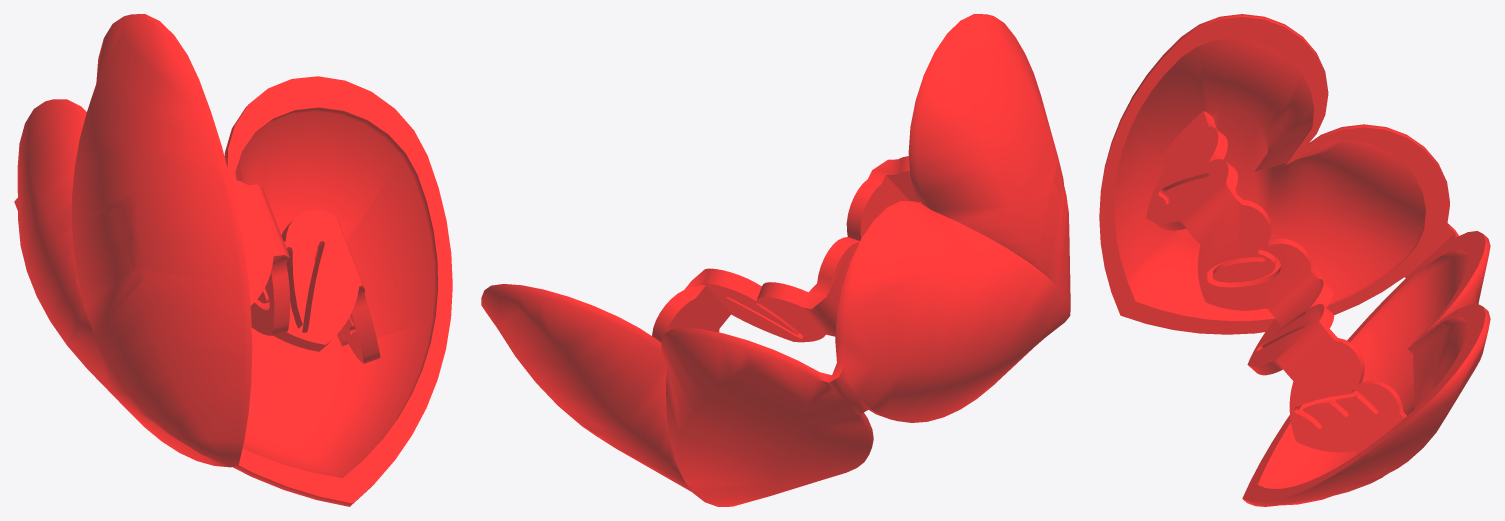
The model's file is asset.gltf.
The picture shows the model from 3 angles, left to right: view 1: azimuth 30°, elevation 25°; view 2: azimuth 150°, elevation 25°; view 3: azimuth 270°, elevation 25°; orthographic projection. The views are drawn at different scales.
Parts seen in each view (by area): view 1: Material2 (×3); view 2: Material2 (×2); view 3: Material2 (×4).
Part boxes in pixels (box(x1,y1,x2,y2)): Material2 (×3): box(14, 14, 452, 506); Material2 (×2): box(481, 14, 1070, 506); Material2 (×4): box(1099, 14, 1490, 506).
Bounding box in the file's own units: 6.1 × 6.67 × 5.68.
